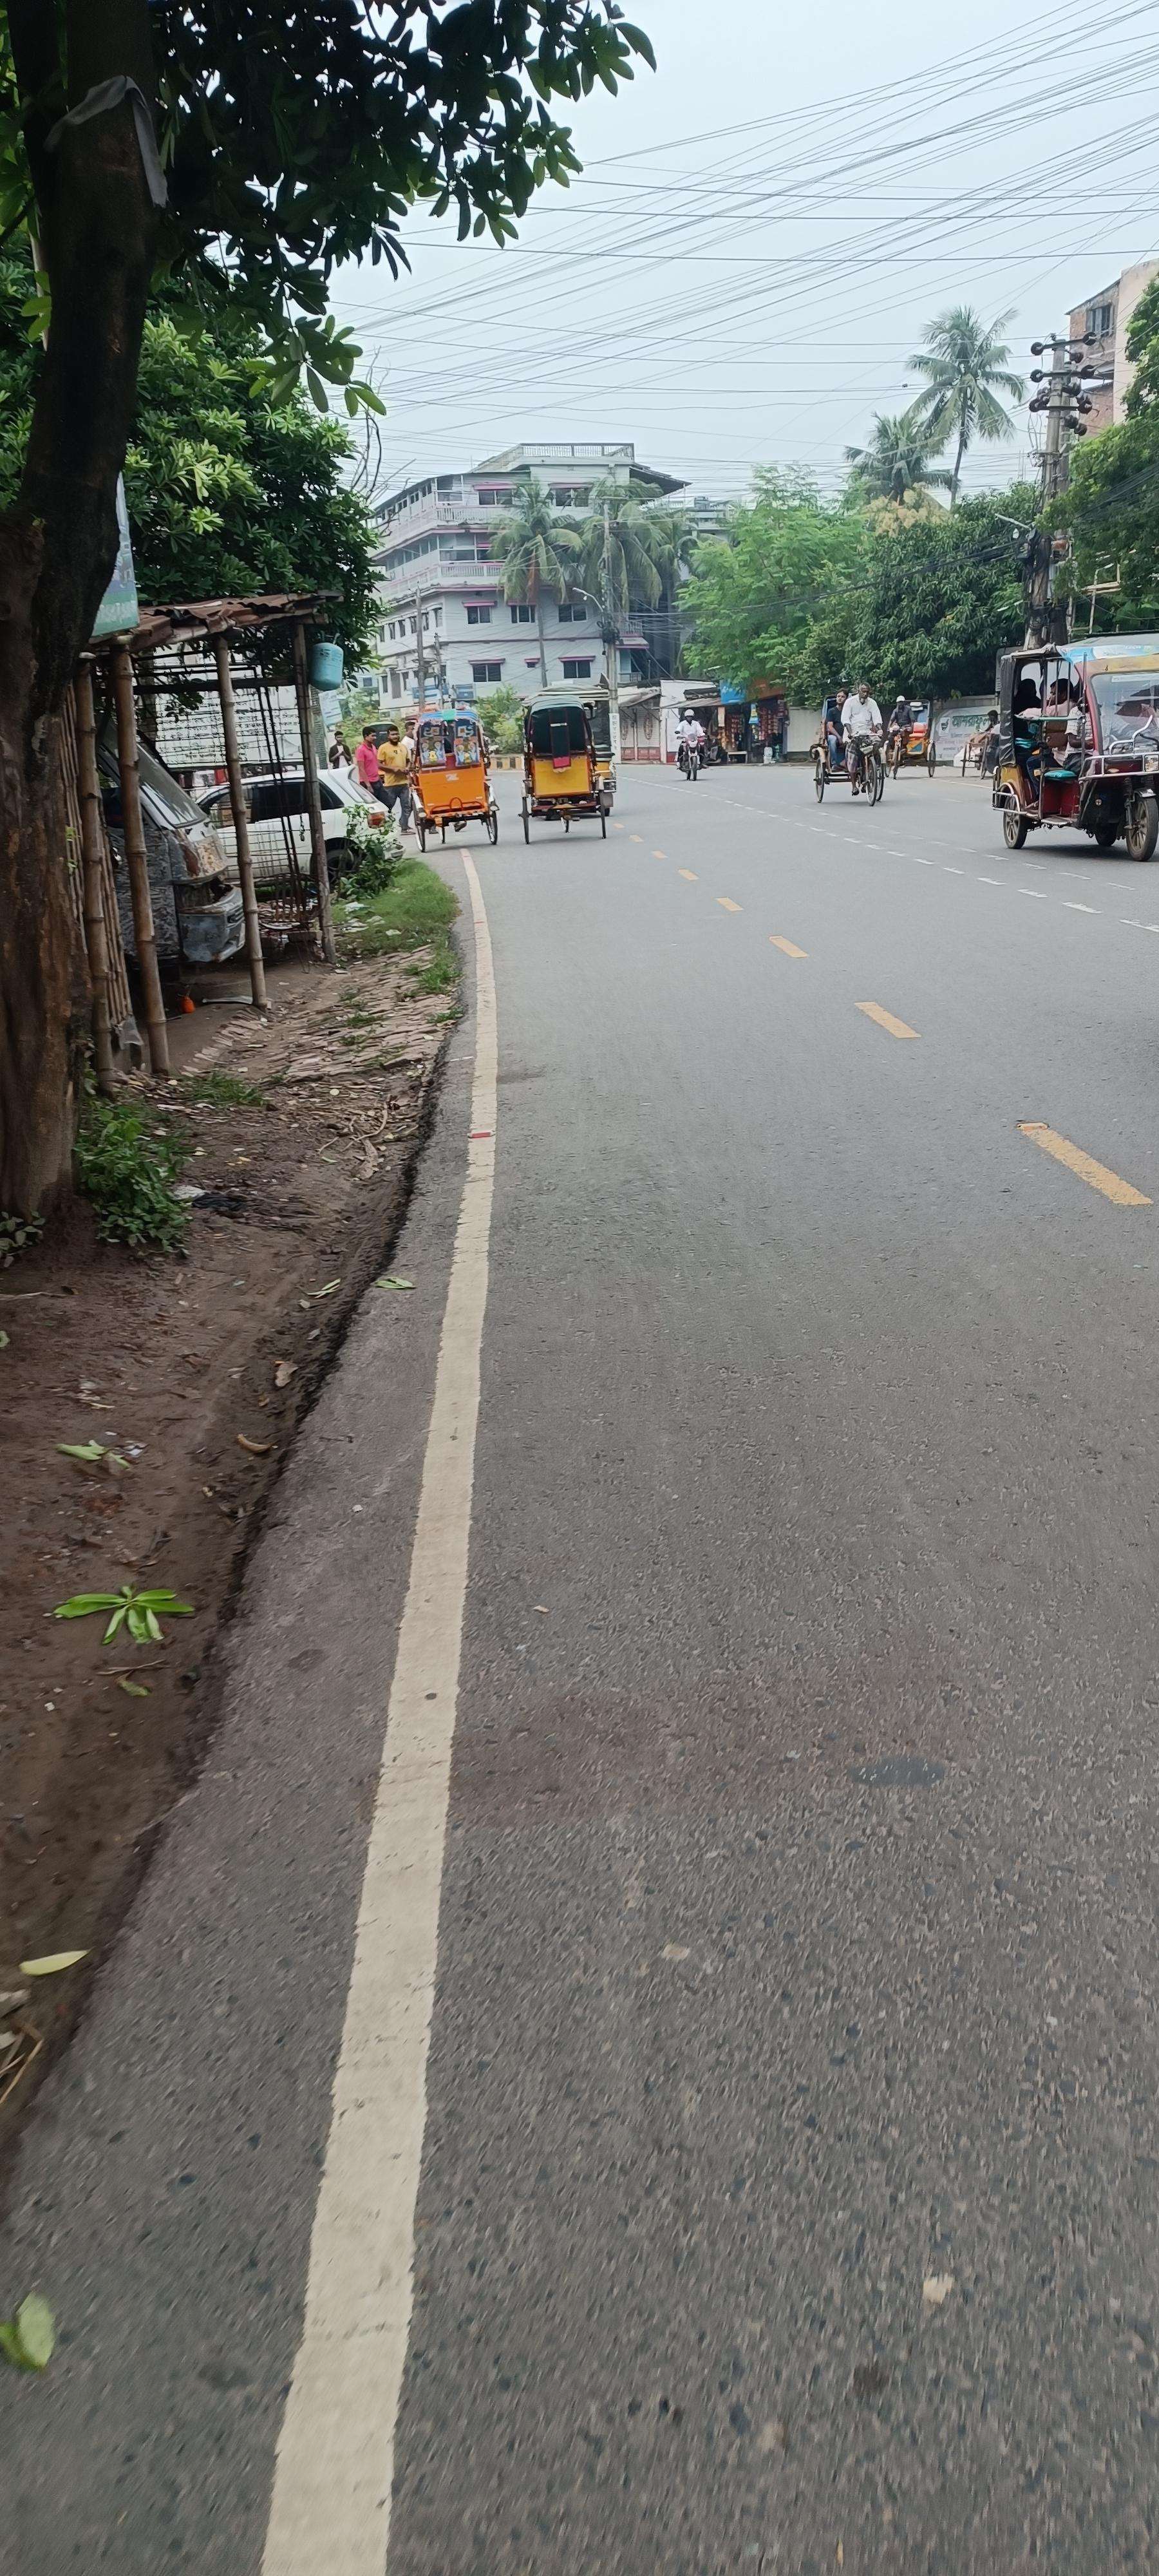Construction-barrier: (258, 841, 501, 2569)
Garbage: (87, 588, 345, 1065)
Garbage-bin: (353, 726, 384, 798)
Traffic-cone: (973, 624, 1159, 895), (515, 695, 650, 849)
